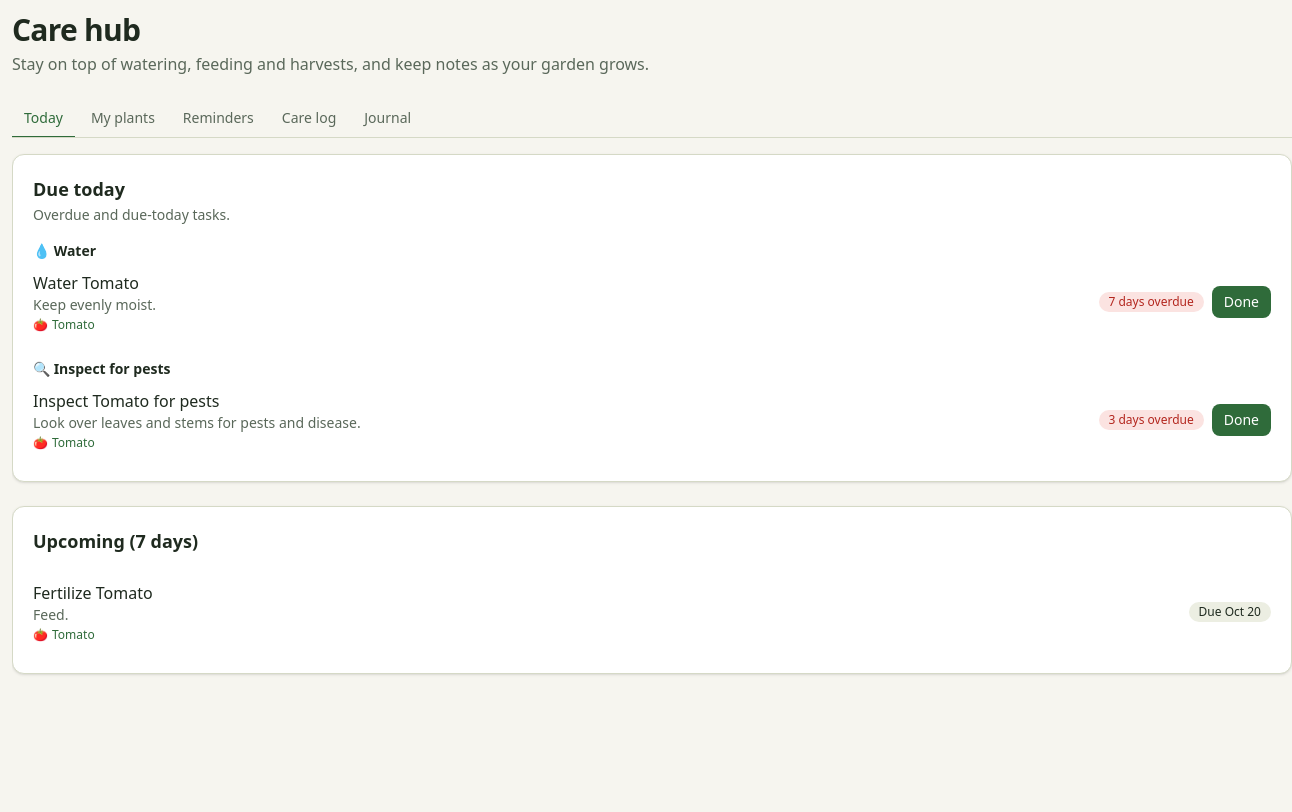
Test: CarePage › Journal › requires a title
The width and height of the screenshot is (1292, 812).
Click the tab "Journal": (388, 119) [352,100,423,138]
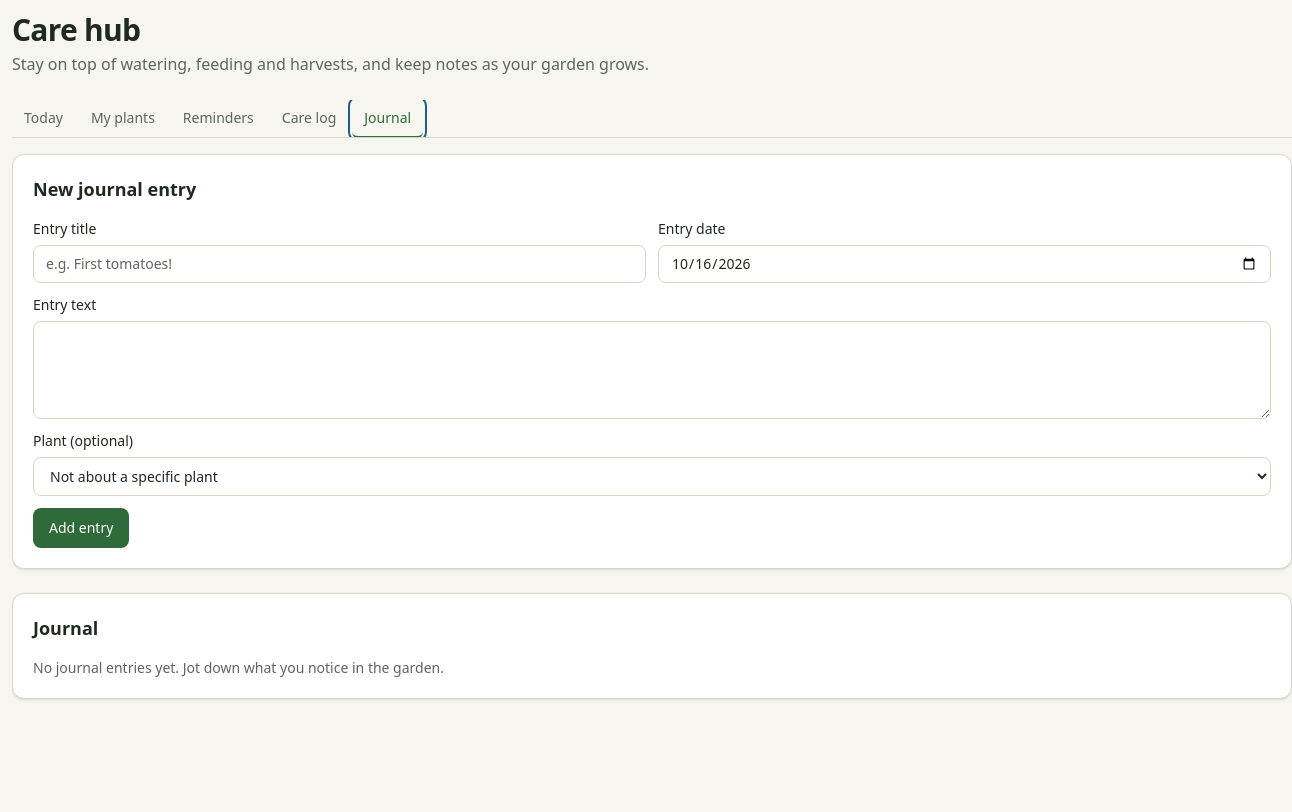
Click the button "Add entry": (81, 528) [33,508,129,548]
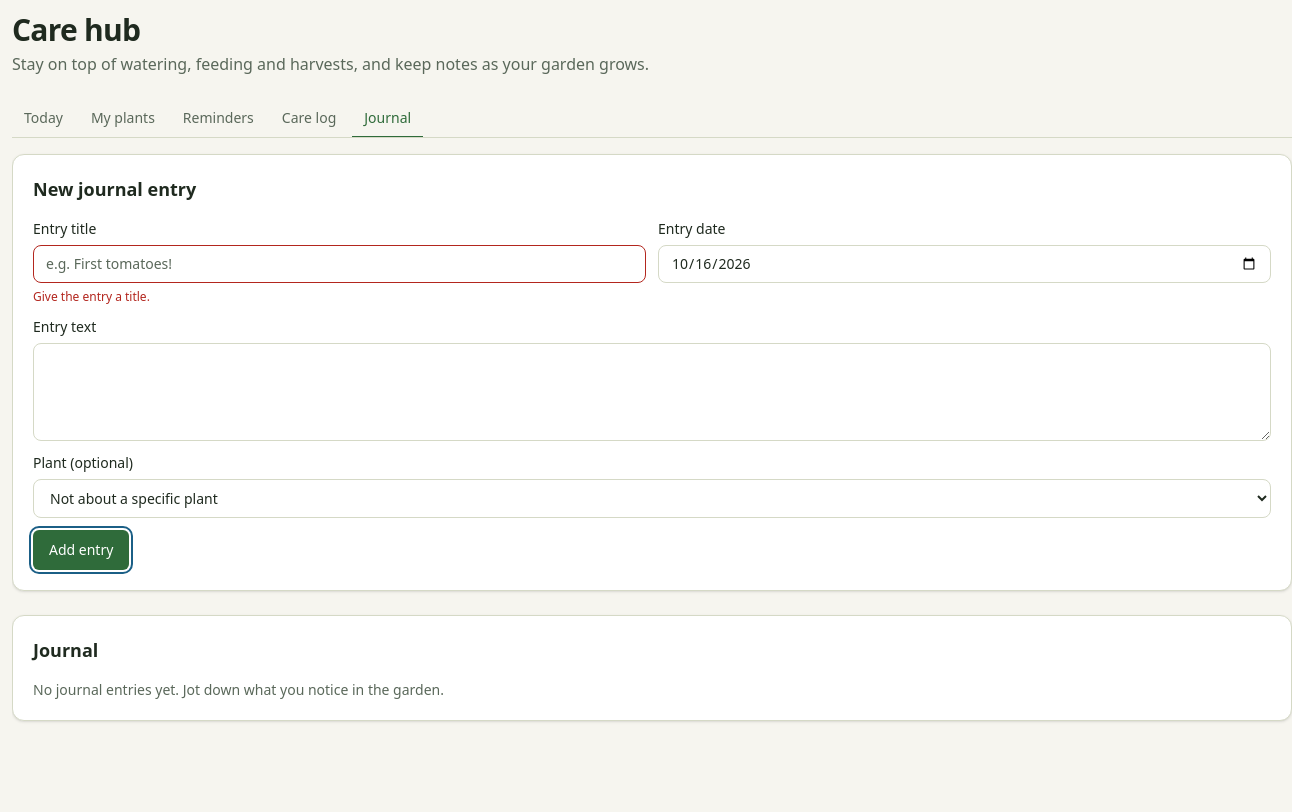
expect the text "Give the entry a title." is shown: met, box [33,288,150,305]
